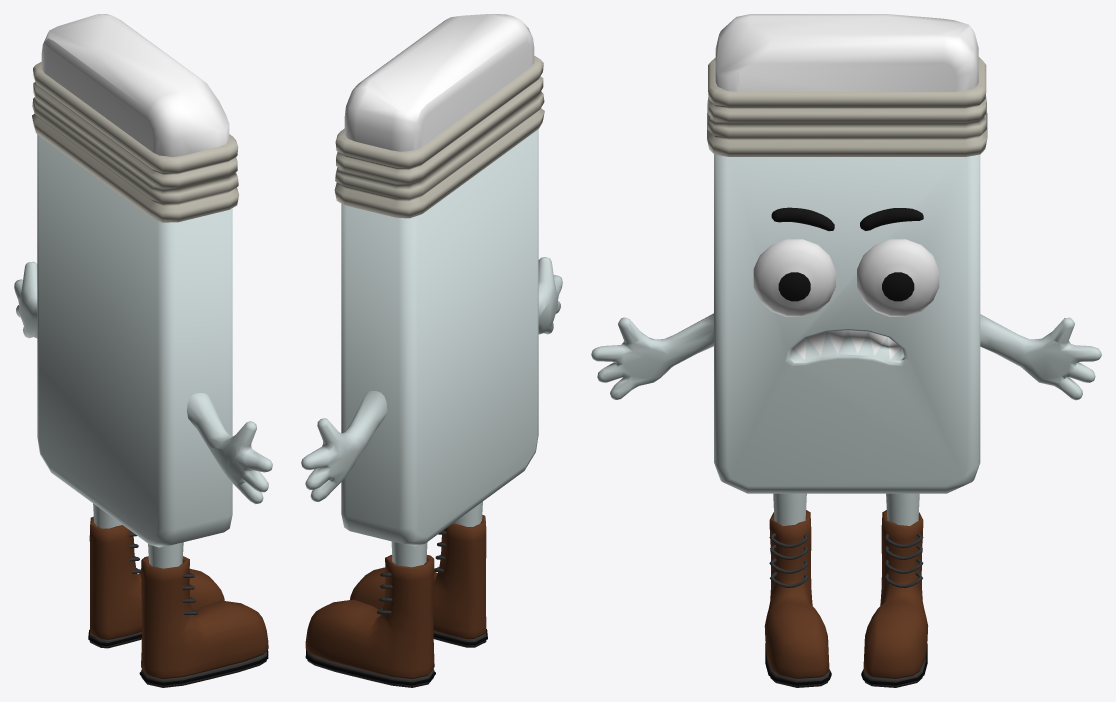
Rendered from Ластик.fbx.
3 views of the same model, side by side, from view 1: azimuth 30°, elevation 25°; view 2: azimuth 150°, elevation 25°; view 3: azimuth 270°, elevation 25° (orthographic).
Visible parts, largest first — view 1: ребристая штука, Ноги.005, Cube.001, Cube.002, рука, Plane; view 2: ребристая штука, Ноги.005, Cube.001, Cube.002, рука, Plane; view 3: ребристая штука, Cube.001, Cube.002, Ноги.005, рука, Sphere, Sphere.001, Plane, Circle.003, Circle.001.
Part boxes in pixels (x1,y1,x2,y2): ребристая штука: (37,134,232,547); Ноги.005: (88,516,268,687); Cube.001: (41,14,229,156); Cube.002: (32,62,239,222); рука: (14,261,272,504); Plane: (93,503,183,568); ребристая штука: (341,129,538,546); Ноги.005: (305,515,487,687); Cube.001: (344,14,534,151); Cube.002: (334,56,544,218); рука: (301,257,562,501); Plane: (391,501,482,567); ребристая штука: (714,154,980,493); Cube.001: (715,14,978,91); Cube.002: (707,57,987,156); Ноги.005: (764,510,928,687); рука: (591,313,1101,400); Sphere: (753,239,835,316); Sphere.001: (857,239,939,316); Plane: (773,493,919,525); Circle.003: (771,207,834,231); Circle.001: (860,208,923,230).
Size of the model in its own units: 132 by 507 by 383.
